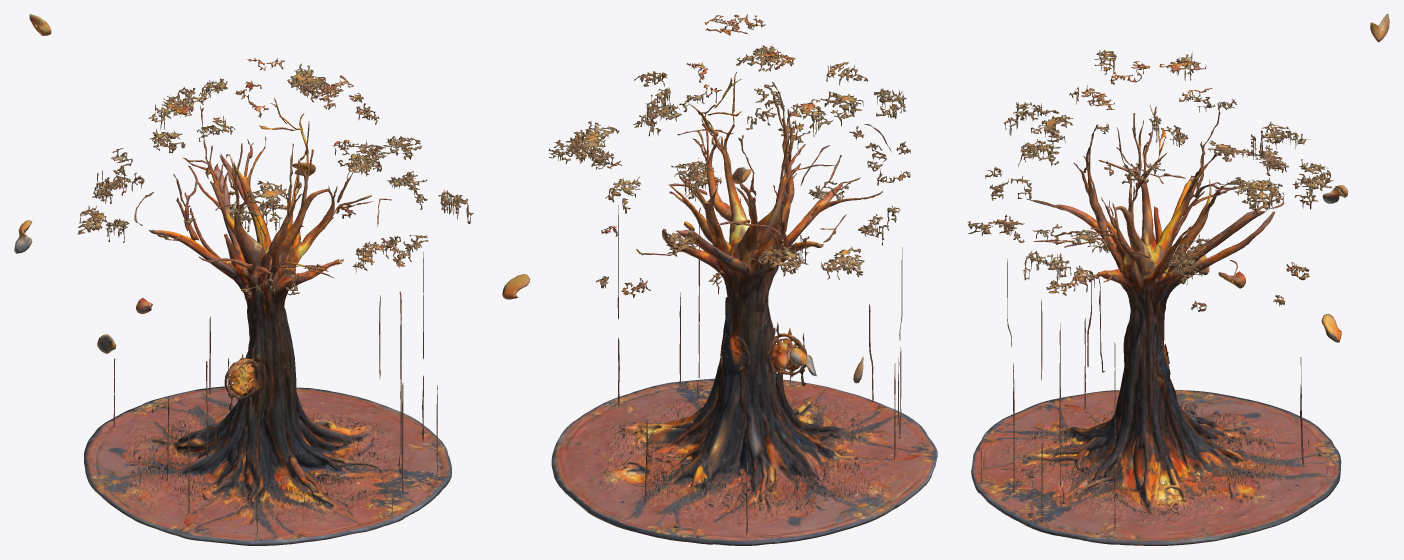
The model's file is Meshy_AI_Enchanted_Luminescenc_1115232822_texture.glb.
3 views of the same model, side by side, from view 1: azimuth 30°, elevation 25°; view 2: azimuth 150°, elevation 25°; view 3: azimuth 270°, elevation 25° (orthographic). The views are drawn at different scales.
Size of the model in its own units: 1.71 by 1.97 by 1.89.
1 material, 1 textured.
